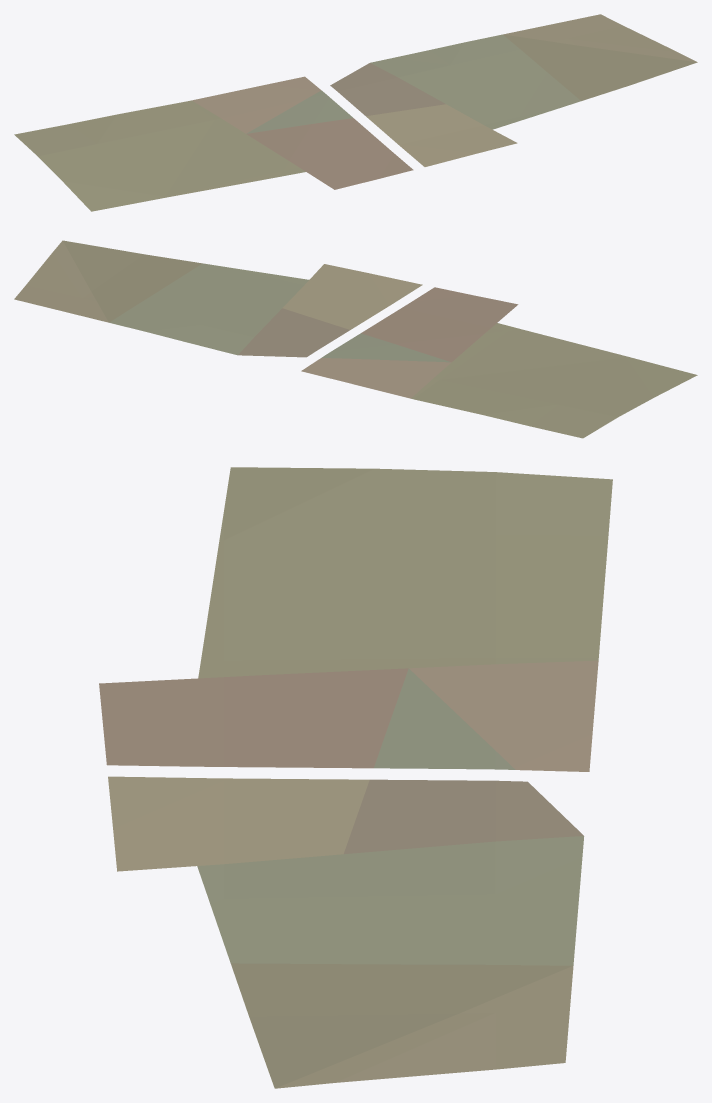
File: farm_13_19_soil.glb
3 views of the same model, one above another, from view 1: azimuth 30°, elevation 25°; view 2: azimuth 150°, elevation 25°; view 3: azimuth 270°, elevation 25° (orthographic). The views are drawn at different scales.
Parts seen in each view (by area): view 1: geometry_0; view 2: geometry_0; view 3: geometry_0.
Part boxes in pixels (box(x1,y1,x2,y2)): geometry_0: box(14, 14, 697, 211); geometry_0: box(14, 240, 697, 438); geometry_0: box(99, 467, 612, 1088).
Size of the model in its own units: 420 by 8.67 by 151.
